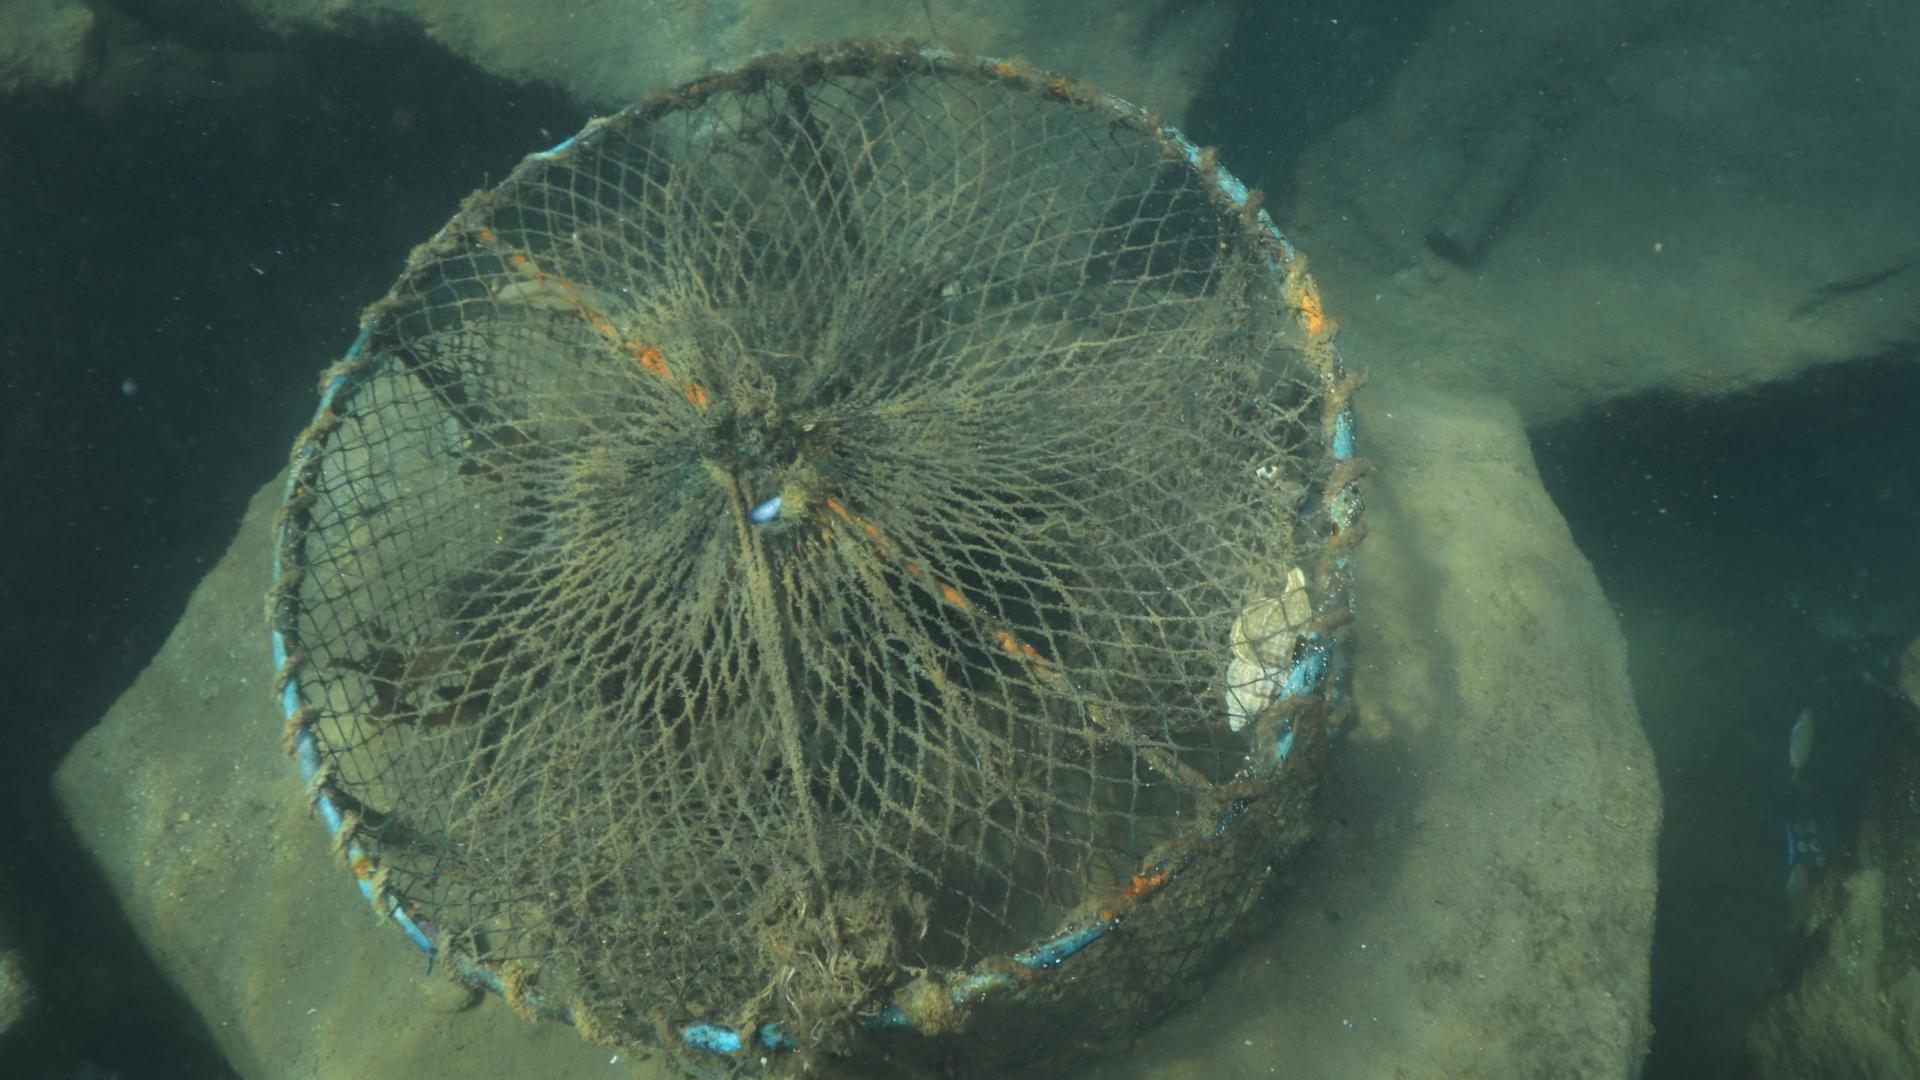circular fish trap: (261, 40, 1352, 1080)
